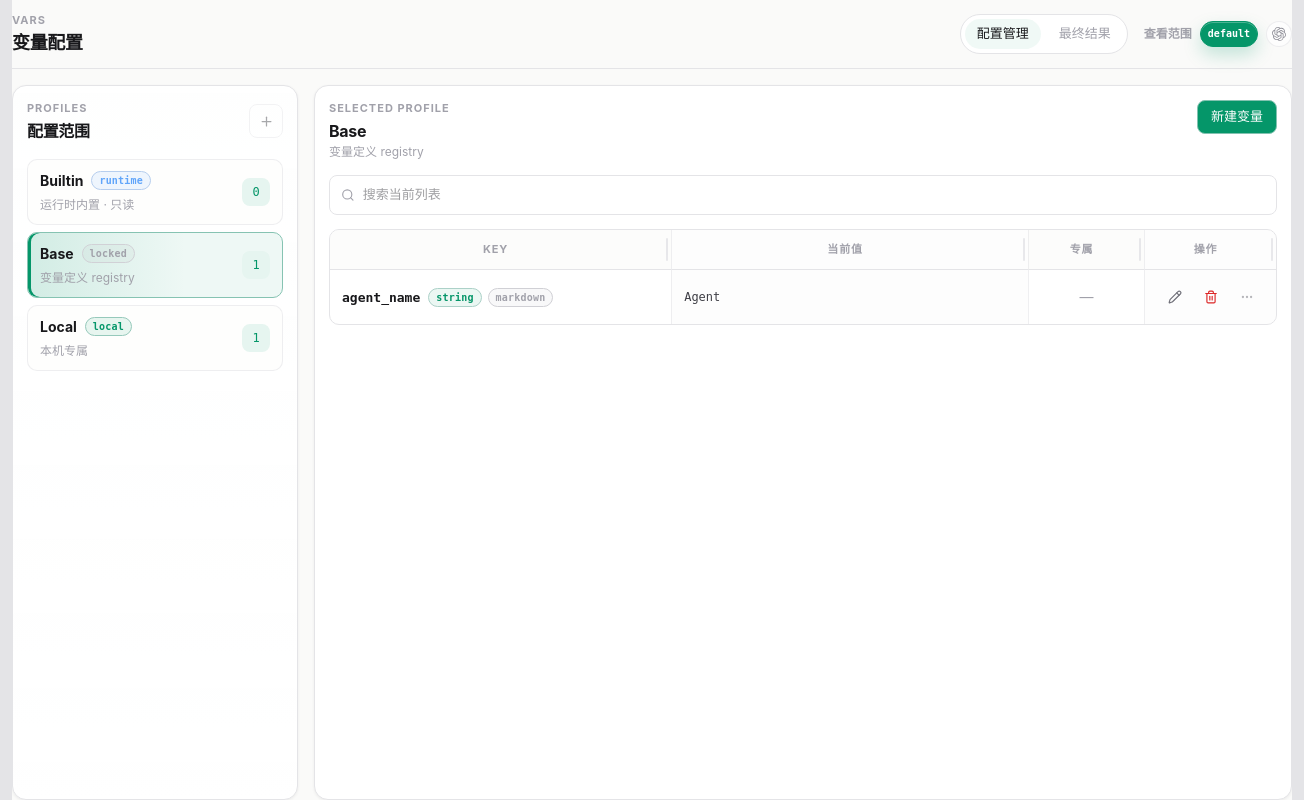
Test case: Vars view › shows default configuration values while listing only Settings agents
This screenshot has width=1304, height=800.
Expected: the text "agent_name" is shown, [342,290,420,304]
Expected: the button named "Codex" is shown, [1266,21,1292,47]
Click the button "Local local 本机专属 1" at x=155, y=338, box [27,305,283,371]
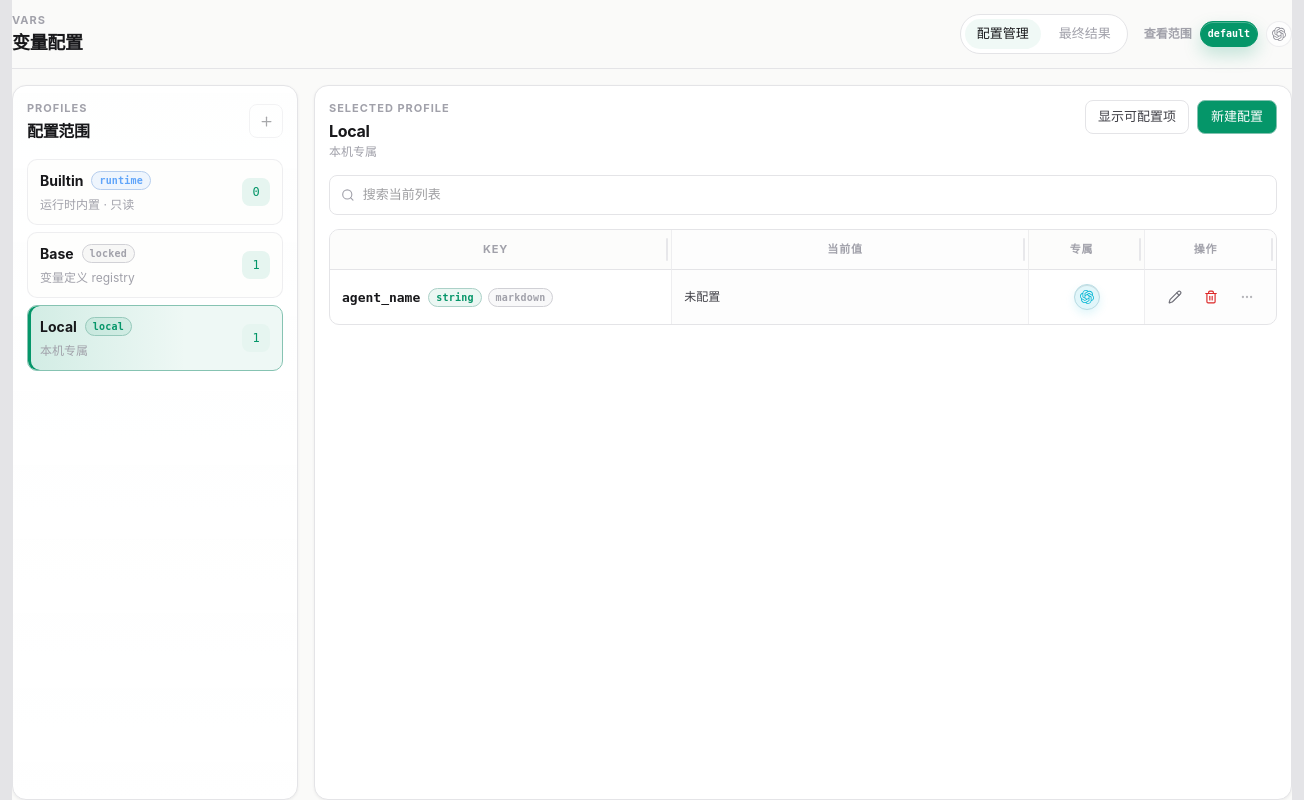
Expected: the row "agent_name string markdown 未配置" is shown, [330,270,1276,324]
Expected: the element named "Codex" is empty, [1074,284,1100,310]
Expected: the 2nd icon with class "agent-chip-icon" is shown, [1080,290,1094,304]
